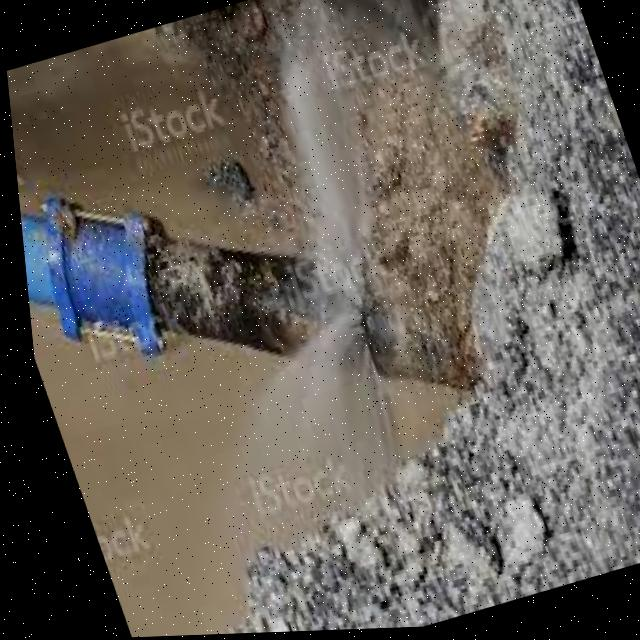corrosion: (213, 175, 477, 491)
